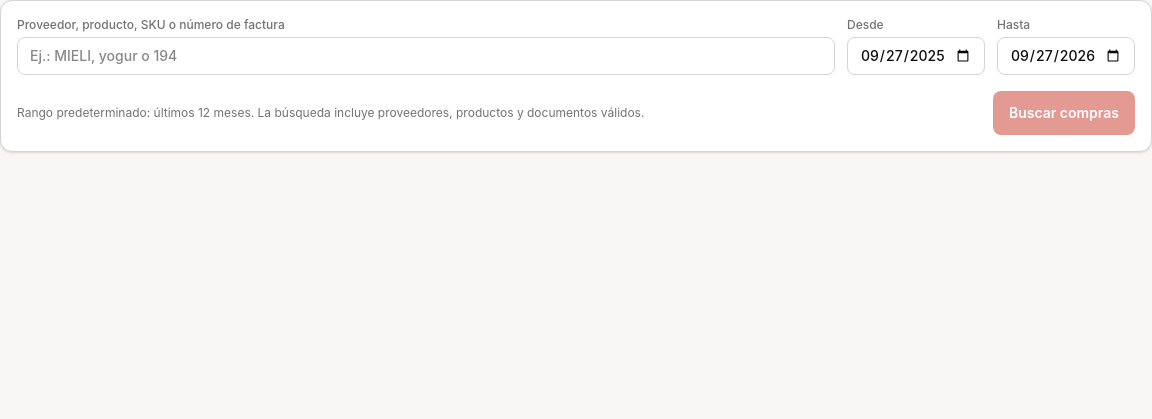
Test: BuscarComprasTab › disables the active query when the selected range grows beyond ten years
This screenshot has width=1152, height=419.
In the search field named "Buscar proveedor, producto, SKU o número de factura": (426, 56) [17,37,835,75], type "Alpha"
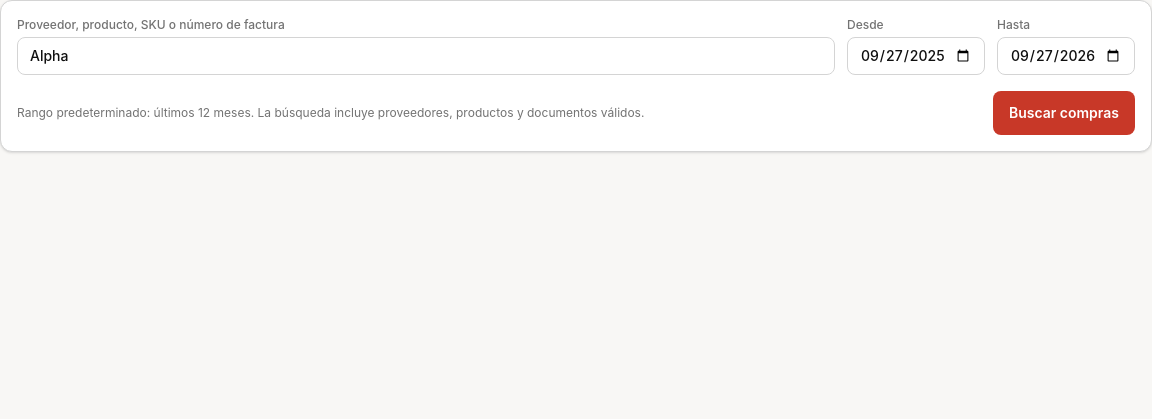
Submit the form named "Buscar compras", box [17,17,1135,135]
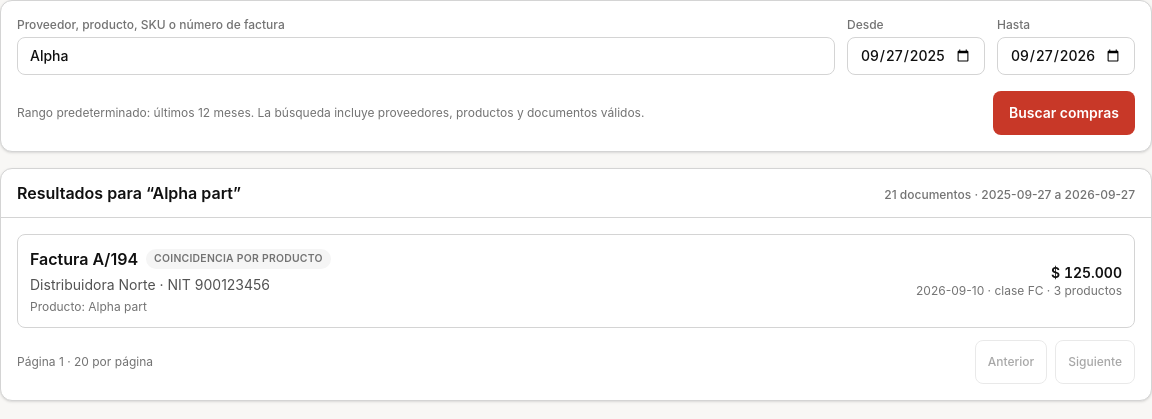
Check: the heading "Resultados para “Alpha part”" is shown, box [17,181,241,205]
In the date field labelled "Desde": (916, 56) [847,37,985,75], type "2010-01-01"
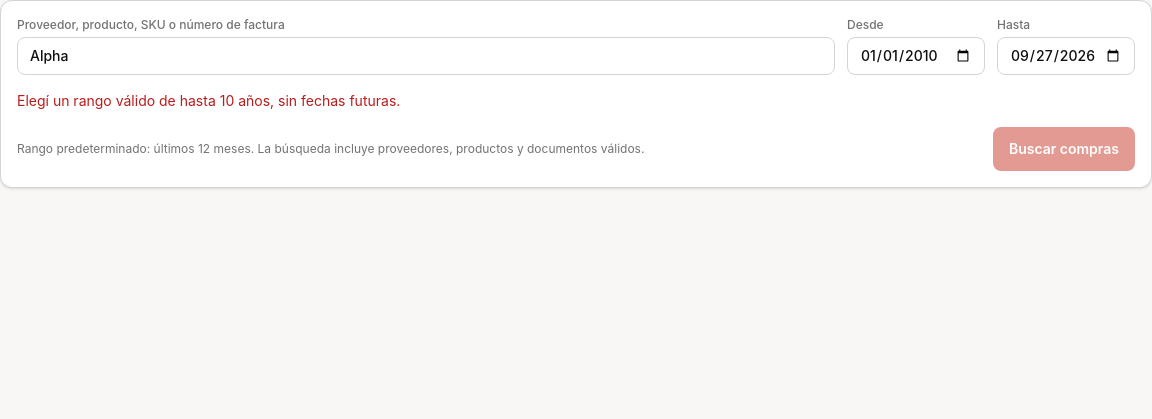
Check: the message shows "hasta 10 años", box [17,92,400,109]
Check: the button "Buscar compras" is disabled, box [993,127,1135,171]
